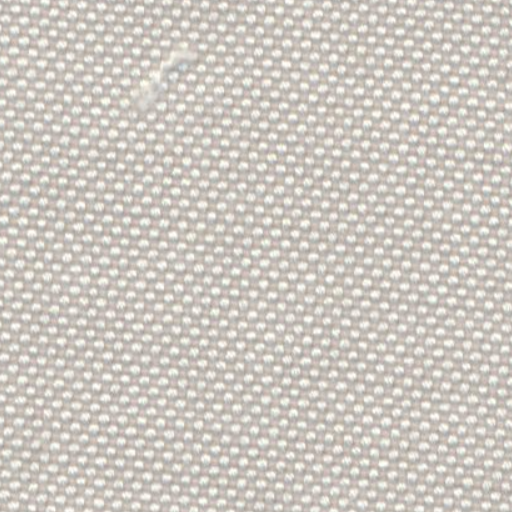DuanSha: (124, 40, 216, 95)
